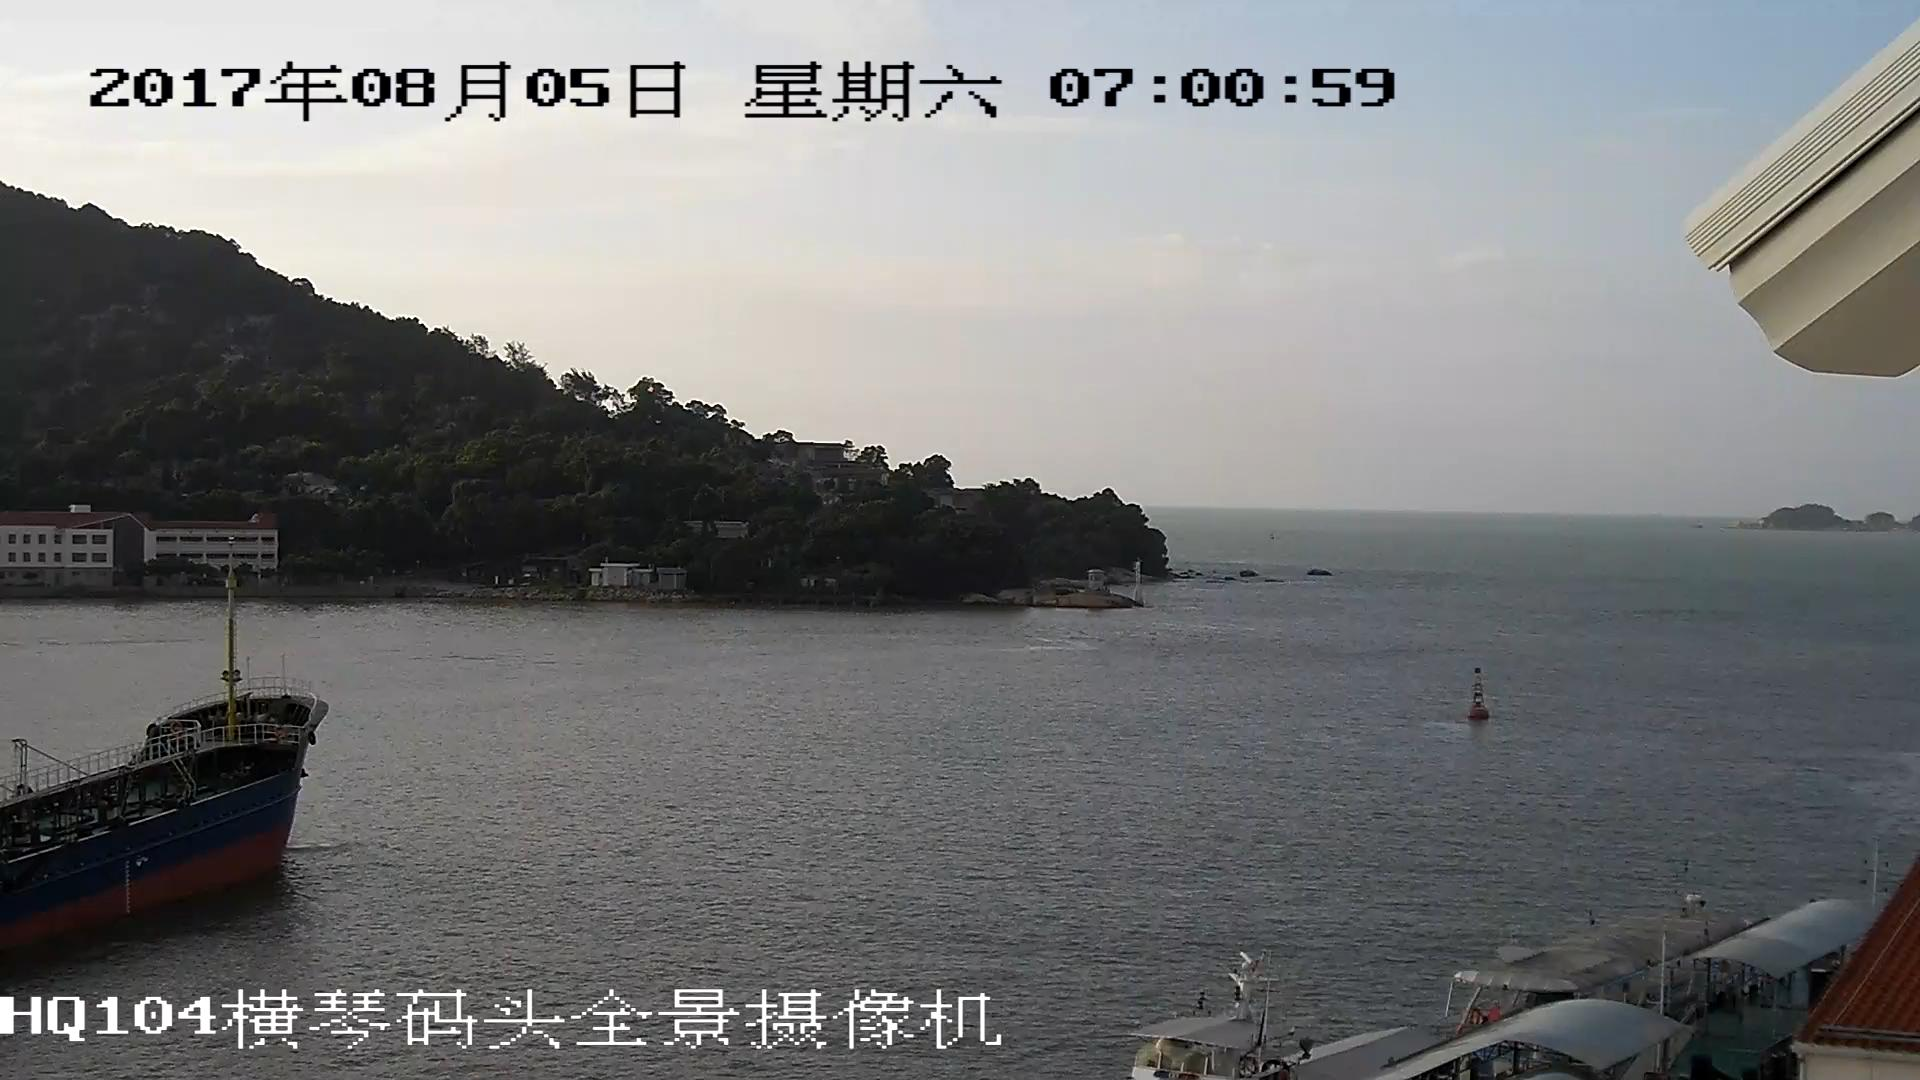general cargo ship: (1, 533, 323, 983)
